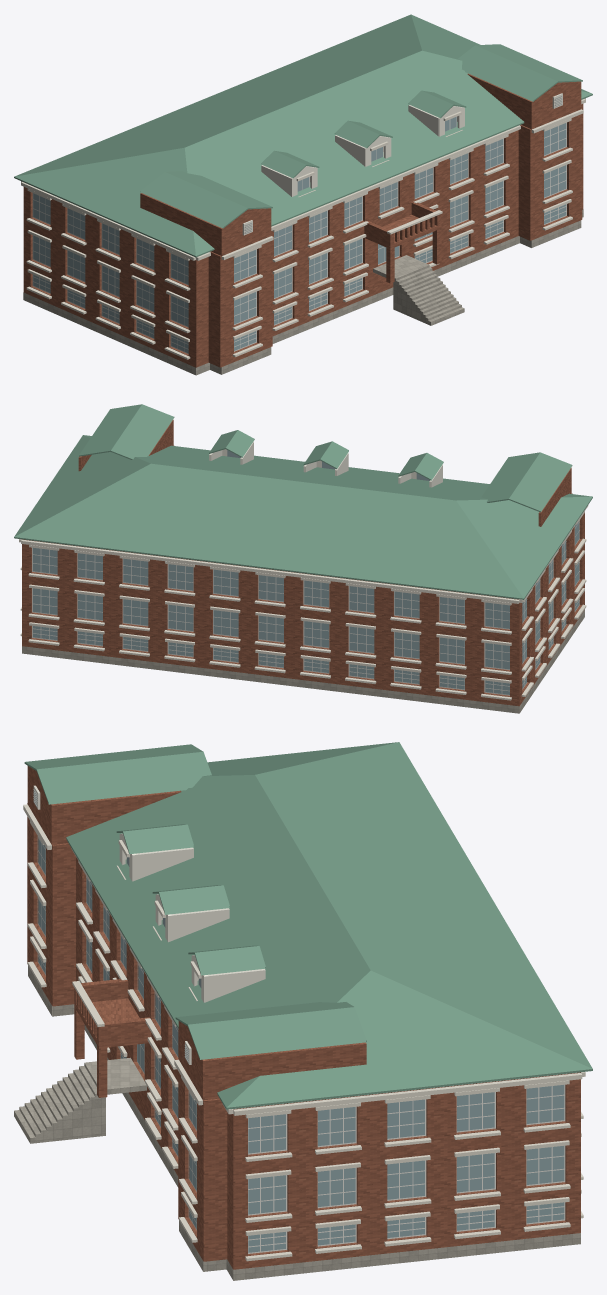
The picture shows the model from 3 angles, top to bottom: view 1: azimuth 30°, elevation 25°; view 2: azimuth 150°, elevation 25°; view 3: azimuth 270°, elevation 25°; orthographic projection. The views are drawn at different scales.
Visible parts, largest first — view 1: campbell__roof, campbell__brick, campbell__glass, campbell__lintel, campbell__frame, campbell__stone, campbell__stair-front, campbell__dormer, campbell__threshold-front; view 2: campbell__roof, campbell__brick, campbell__glass, campbell__lintel, campbell__frame, campbell__stone, campbell__dormer; view 3: campbell__roof, campbell__brick, campbell__glass, campbell__lintel, campbell__frame, campbell__stone, campbell__stair-front, campbell__dormer, campbell__threshold-front.
Boxes of the visible parts, <box> form: campbell__roof: <box>14,14,592,257</box>; campbell__brick: <box>23,73,583,367</box>; campbell__glass: <box>33,117,566,353</box>; campbell__lintel: <box>21,98,585,359</box>; campbell__frame: <box>32,117,566,353</box>; campbell__stone: <box>23,209,583,375</box>; campbell__stair-front: <box>393,264,464,325</box>; campbell__dormer: <box>242,93,562,235</box>; campbell__threshold-front: <box>373,255,426,277</box>; campbell__roof: <box>14,404,592,599</box>; campbell__brick: <box>22,419,584,706</box>; campbell__glass: <box>33,450,579,694</box>; campbell__lintel: <box>19,445,588,700</box>; campbell__frame: <box>32,520,579,695</box>; campbell__stone: <box>22,610,584,713</box>; campbell__dormer: <box>209,441,442,487</box>; campbell__roof: <box>24,742,592,1109</box>; campbell__brick: <box>27,766,580,1269</box>; campbell__glass: <box>38,837,564,1252</box>; campbell__lintel: <box>23,804,585,1261</box>; campbell__frame: <box>37,836,565,1253</box>; campbell__stone: <box>28,965,580,1280</box>; campbell__stair-front: <box>14,1062,105,1143</box>; campbell__dormer: <box>33,785,265,1064</box>; campbell__threshold-front: <box>90,1057,146,1094</box>.
Bounding box in the file's own units: 45.03 × 13.22 × 30.12.
Materials: 10 (2 with a texture image).
